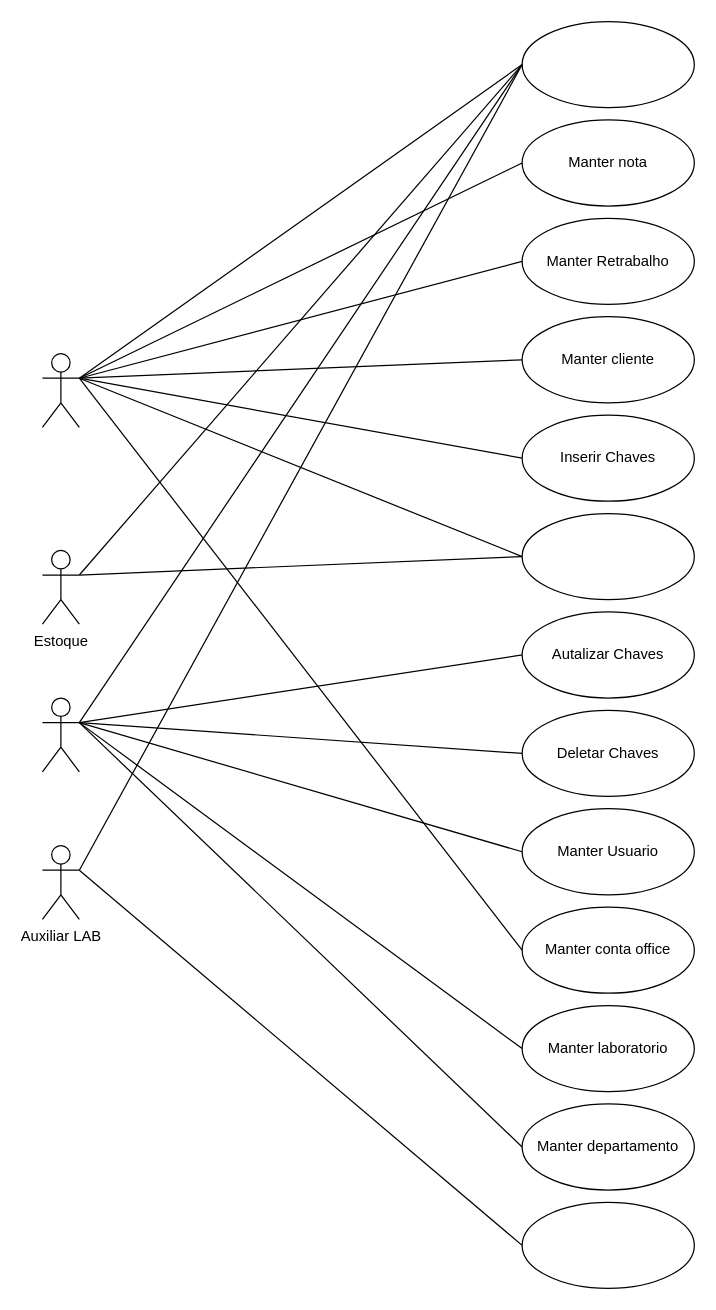
Image size: 716x1310. Some labels were removed from this diagram. The shapes that lost their labels are listed below. From the top down, each one's centre as x and y in pixels, then its label:
point 607,64: login
point 60,389: ADM LAB
point 607,556: Visualizar Chaves
point 60,734: DBA
point 607,1244: Manter CheckList
